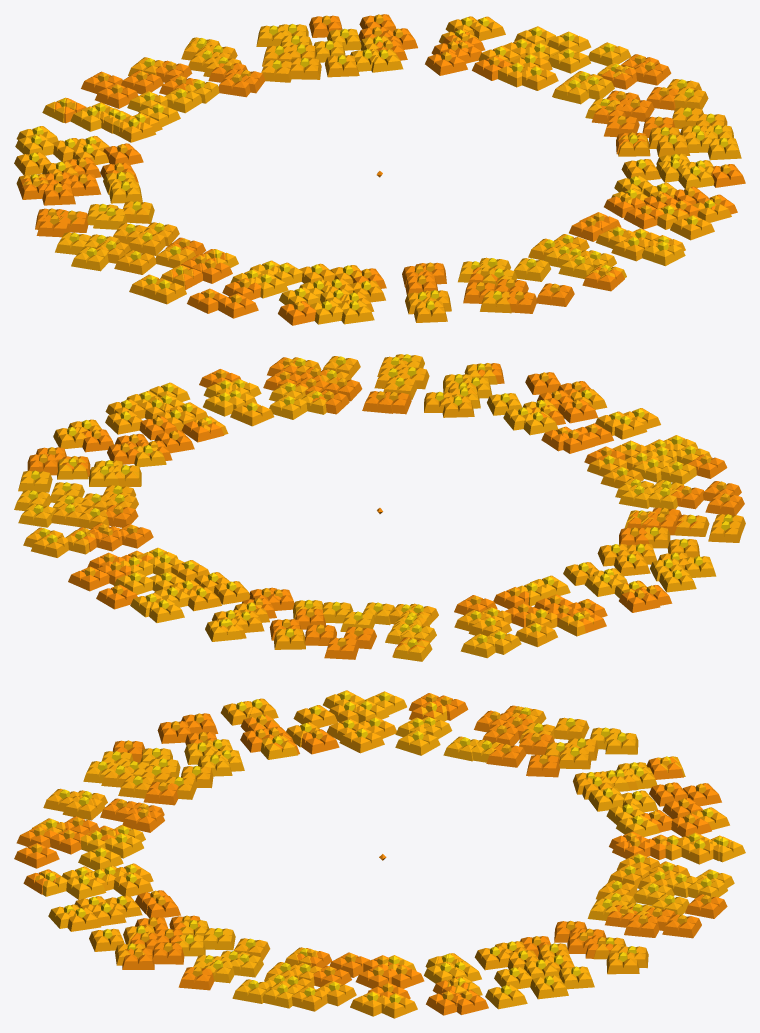
Rendered from cempasuchil-floor-200-mobile.glb.
3 views of the same model, one above another, from view 1: azimuth 30°, elevation 25°; view 2: azimuth 150°, elevation 25°; view 3: azimuth 270°, elevation 25° (orthographic). The views are drawn at different scales.
Parts seen in each view (by area): view 1: flower-108-petals, flower-48-petals, flower-111-petals, flower-73-petals, flower-95-petals, flower-56-petals, flower-100-petals, flower-19-petals, flower-88-petals, flower-200-petals, flower-16-petals, flower-177-petals (+41 smaller); view 2: flower-117-petals, flower-136-petals, flower-144-petals, flower-151-petals, flower-112-petals, flower-164-petals, flower-52-petals, flower-184-petals, flower-65-petals, flower-124-petals, flower-176-petals, flower-72-petals (+29 smaller); view 3: flower-88-petals, flower-69-petals, flower-17-petals, flower-200-petals, flower-52-petals, flower-136-petals, flower-116-petals, flower-49-petals, flower-25-petals, flower-98-petals, flower-133-petals, flower-35-petals (+33 smaller).
Boxes of the visible parts, x1,y1,x2,y2 form: flower-108-petals: [670, 215, 714, 240]; flower-48-petals: [143, 279, 186, 304]; flower-111-petals: [114, 250, 156, 274]; flower-73-petals: [425, 51, 467, 75]; flower-95-petals: [548, 48, 590, 73]; flower-56-petals: [642, 241, 685, 266]; flower-100-petals: [217, 293, 258, 318]; flower-19-petals: [95, 83, 138, 108]; flower-88-petals: [536, 283, 574, 306]; flower-200-petals: [588, 42, 631, 65]; flower-16-petals: [278, 301, 315, 325]; flower-177-petals: [325, 55, 359, 77]; flower-117-petals: [230, 401, 274, 426]; flower-136-petals: [68, 566, 109, 591]; flower-144-petals: [515, 622, 557, 647]; flower-151-petals: [558, 399, 598, 423]; flower-112-petals: [619, 589, 660, 612]; flower-164-petals: [659, 569, 696, 592]; flower-52-petals: [96, 584, 137, 609]; flower-184-petals: [705, 493, 744, 515]; flower-65-petals: [269, 395, 307, 419]; flower-124-petals: [324, 637, 358, 659]; flower-176-petals: [392, 638, 432, 661]; flower-72-petals: [274, 628, 305, 649]; flower-88-petals: [14, 843, 59, 868]; flower-69-petals: [339, 727, 384, 753]; flower-17-petals: [395, 730, 440, 755]; flower-200-petals: [485, 984, 527, 1009]; flower-52-petals: [685, 894, 727, 918]; flower-136-petals: [662, 914, 701, 938]; flower-116-petals: [530, 975, 568, 999]; flower-49-petals: [486, 743, 526, 767]; flower-25-petals: [122, 808, 164, 832]; flower-98-petals: [78, 847, 123, 870]; flower-133-petals: [526, 755, 559, 777]; flower-35-petals: [66, 874, 106, 899].
Bounding box in the file's own units: 8.82 × 0.24 × 8.47.
